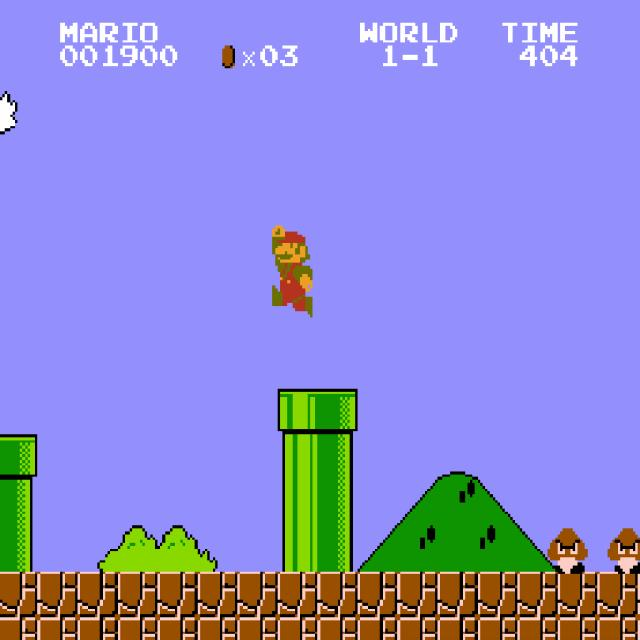big_mario: (270, 223, 312, 317)
goomba: (545, 526, 588, 574), (605, 526, 640, 574)
pipe: (277, 434, 318, 480), (277, 480, 318, 526), (317, 434, 358, 480), (317, 480, 358, 526), (277, 526, 318, 571), (317, 526, 358, 571), (0, 480, 37, 526), (0, 526, 37, 571)
pipe_head: (277, 389, 318, 434), (317, 389, 358, 434), (0, 434, 37, 480)
undestructible_block: (37, 572, 78, 617), (77, 572, 118, 617), (117, 572, 158, 617), (157, 572, 198, 617), (197, 572, 238, 617), (237, 572, 278, 617), (277, 572, 318, 617), (317, 572, 358, 617), (357, 572, 398, 617), (397, 572, 438, 617), (437, 572, 478, 617), (477, 572, 518, 617), (517, 572, 558, 617), (557, 572, 598, 617), (597, 572, 638, 617), (0, 572, 37, 617), (37, 617, 78, 640), (77, 617, 118, 640), (117, 617, 158, 640), (157, 617, 198, 640), (197, 617, 238, 640), (237, 617, 278, 640), (277, 617, 318, 640), (317, 617, 358, 640), (357, 617, 398, 640), (397, 617, 438, 640), (437, 617, 478, 640), (477, 617, 518, 640), (517, 617, 558, 640), (557, 617, 598, 640), (597, 617, 638, 640), (0, 617, 37, 640), (637, 571, 640, 617), (637, 617, 640, 639)
